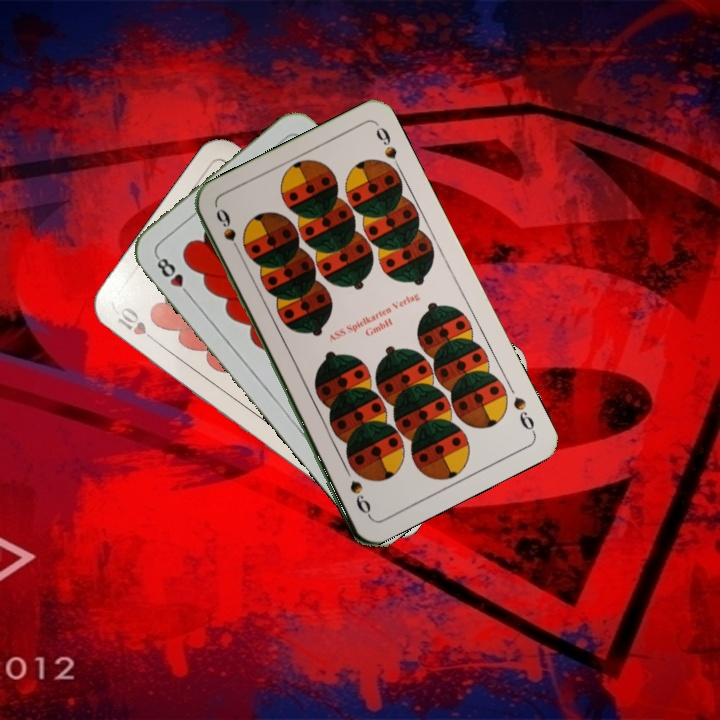H10: (113, 303, 162, 348)
H8: (152, 251, 194, 300)
S9: (211, 204, 245, 260), (509, 392, 538, 436)
